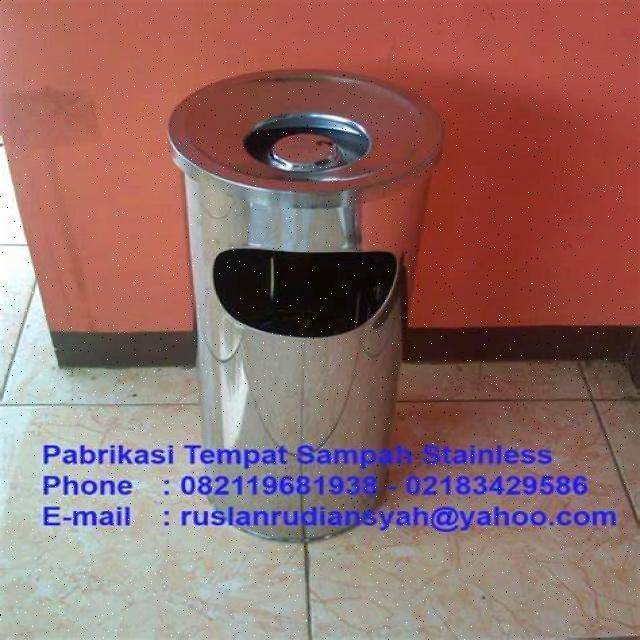garbage container: (139, 59, 552, 440)
